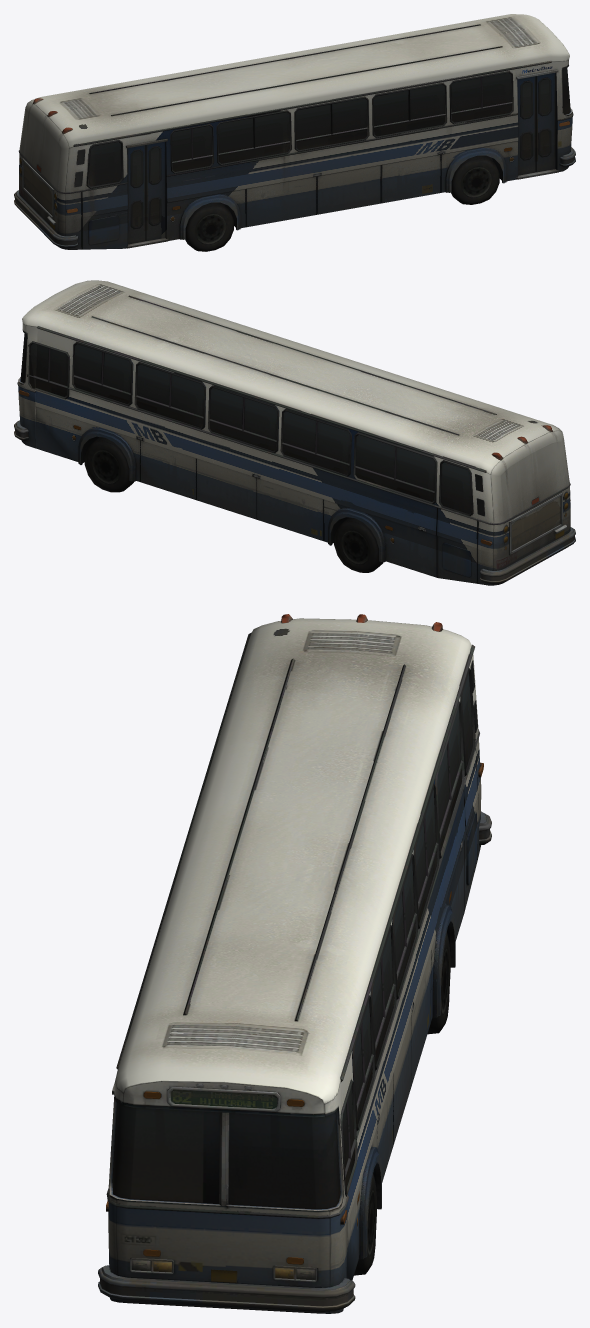
Rendered from Bus_R001.FBX.
The picture shows the model from 3 angles, top to bottom: view 1: azimuth 30°, elevation 25°; view 2: azimuth 150°, elevation 25°; view 3: azimuth 270°, elevation 25°; orthographic projection. The views are drawn at different scales.
Parts seen in each view (by area): view 1: Bus_R001; view 2: Bus_R001; view 3: Bus_R001.
Part boxes in pixels (bbox=[...]): Bus_R001: bbox=[14, 14, 575, 251]; Bus_R001: bbox=[14, 280, 575, 585]; Bus_R001: bbox=[98, 614, 491, 1313].
Bounding box in the file's own units: 1701 × 462 × 584.
